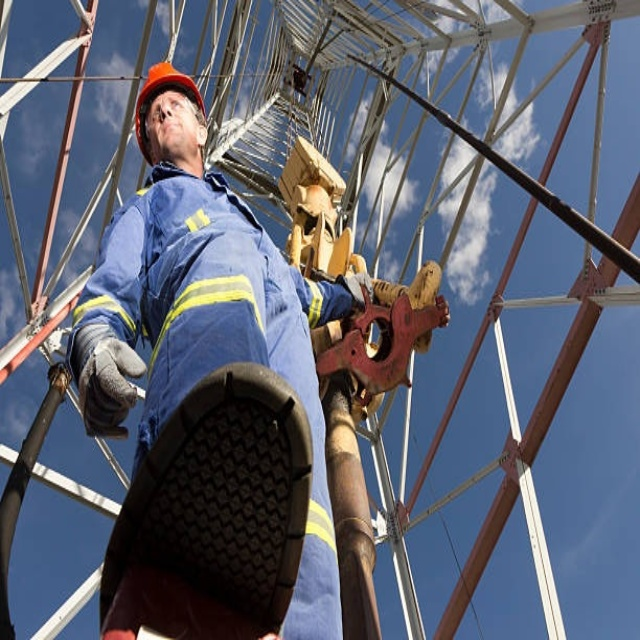Guantes: (73, 328, 144, 441)
Sin_mascara: (156, 111, 189, 149)
